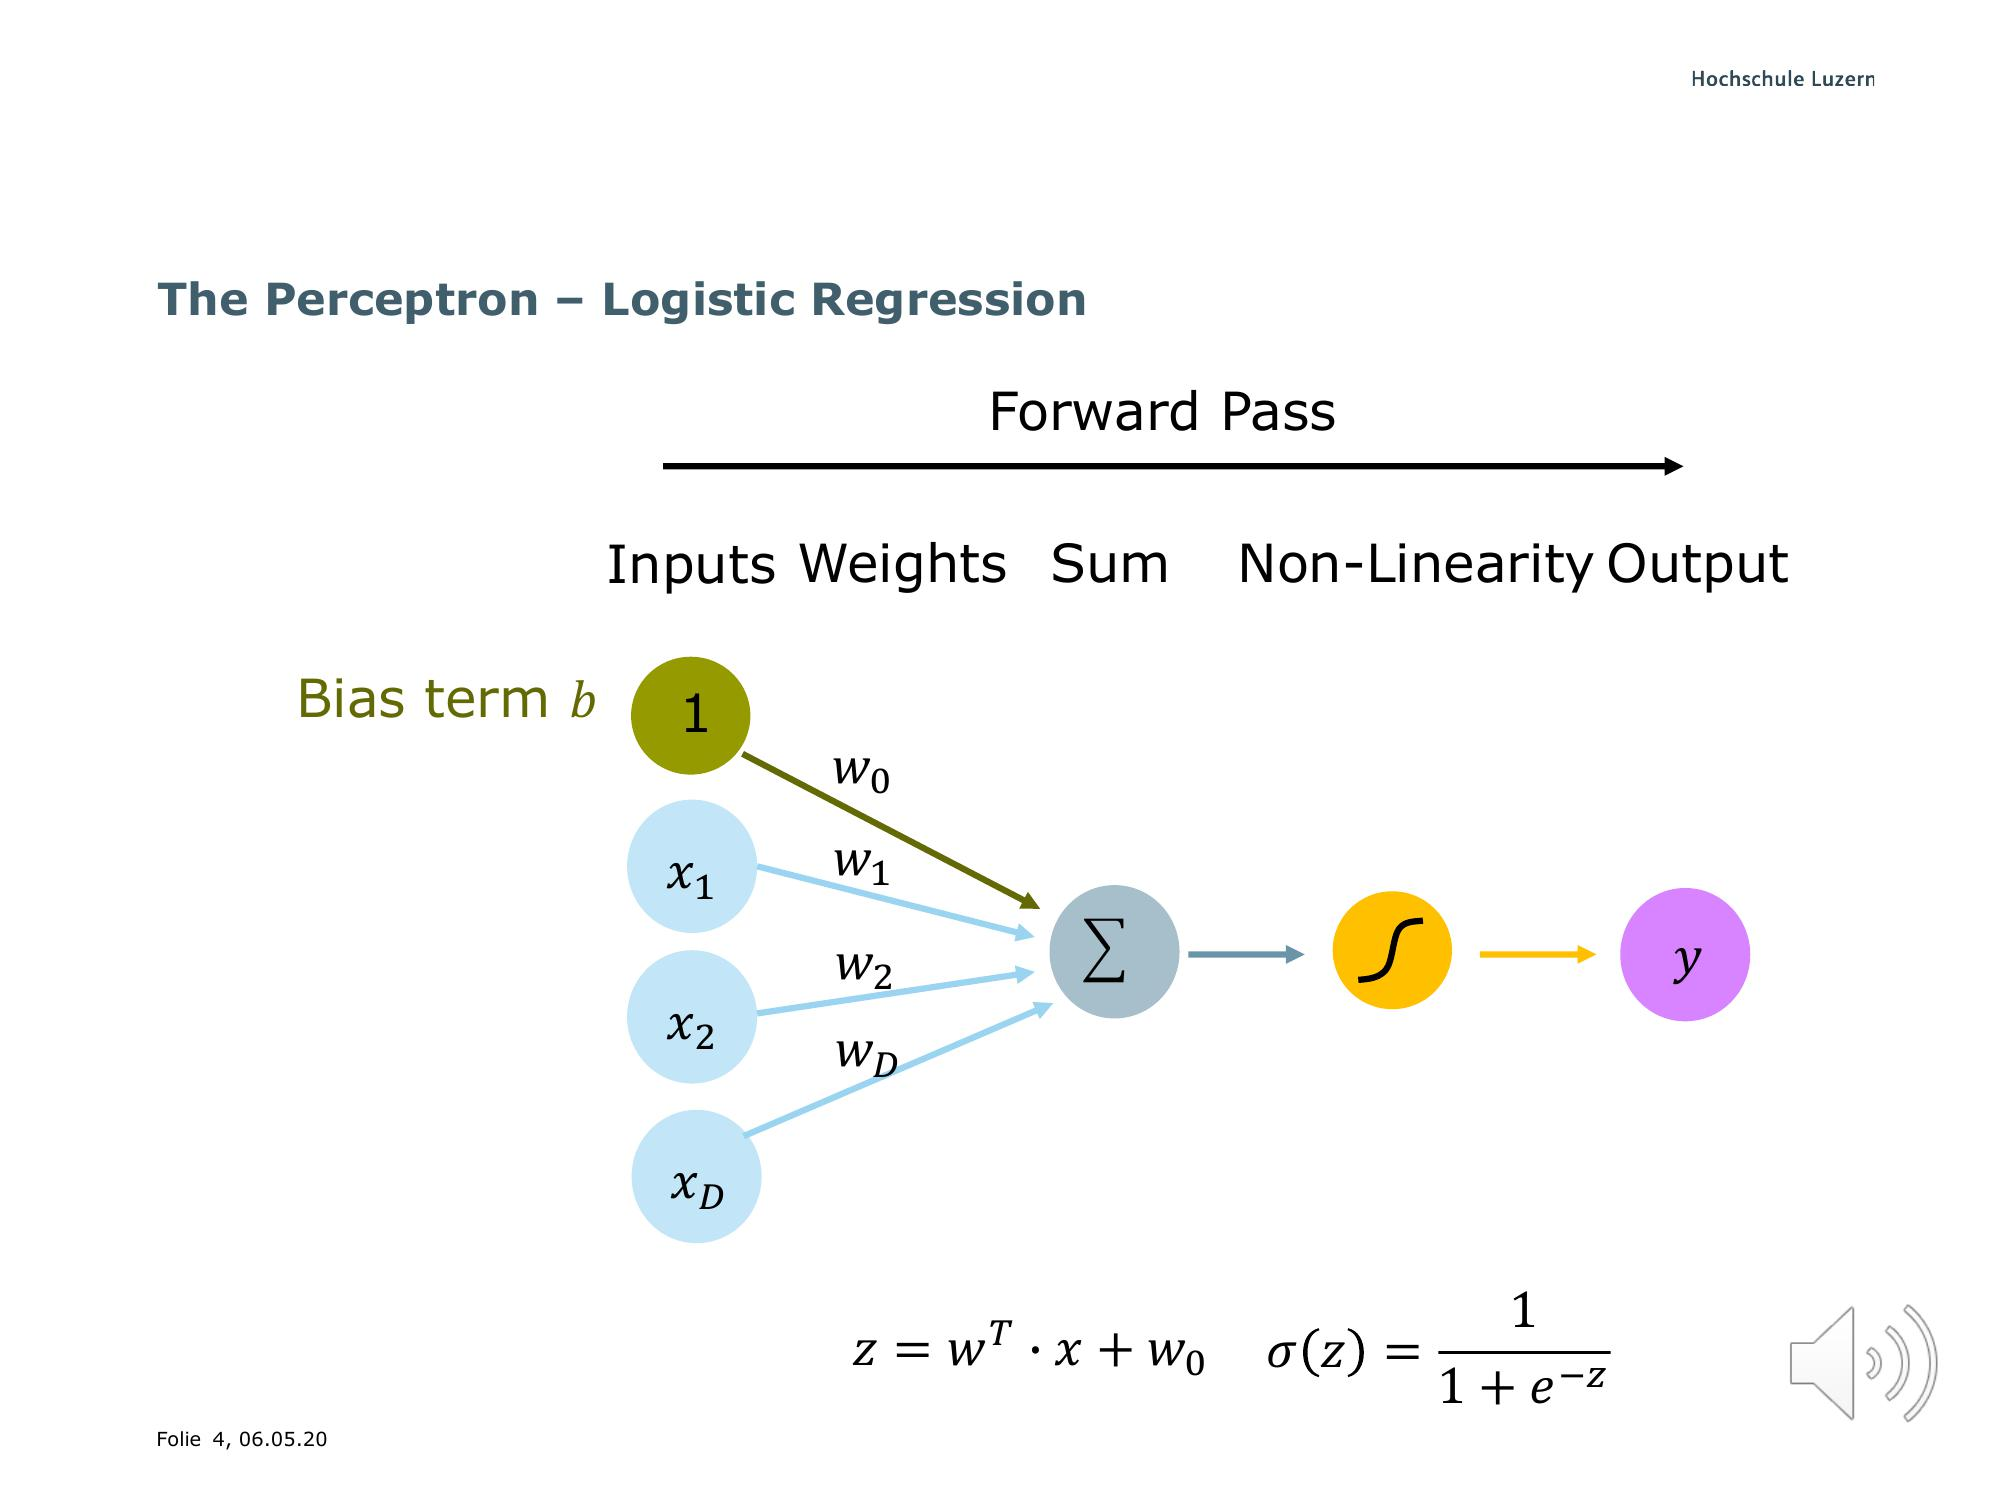Title: (150, 262, 1096, 328)
